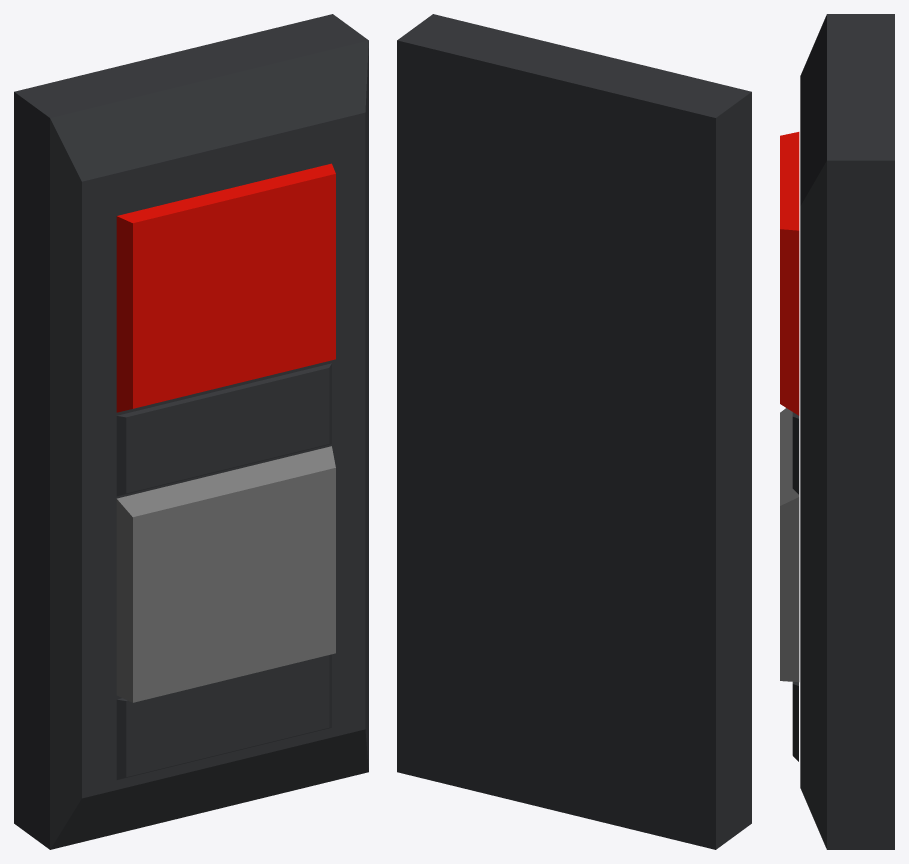
The model's file is lucespuerta.fbx.
The picture shows the model from 3 angles, left to right: view 1: azimuth 30°, elevation 25°; view 2: azimuth 150°, elevation 25°; view 3: azimuth 270°, elevation 25°; orthographic projection. The views are drawn at different scales.
Visible parts, largest first — view 1: luces; view 2: luces; view 3: luces.
Part boxes in pixels (left/top/right/bottom): luces: left=14, top=14, right=368, bottom=849; luces: left=397, top=14, right=751, bottom=849; luces: left=780, top=14, right=894, bottom=849.
Size of the model in its own units: 74.4 by 163 by 24.63.
